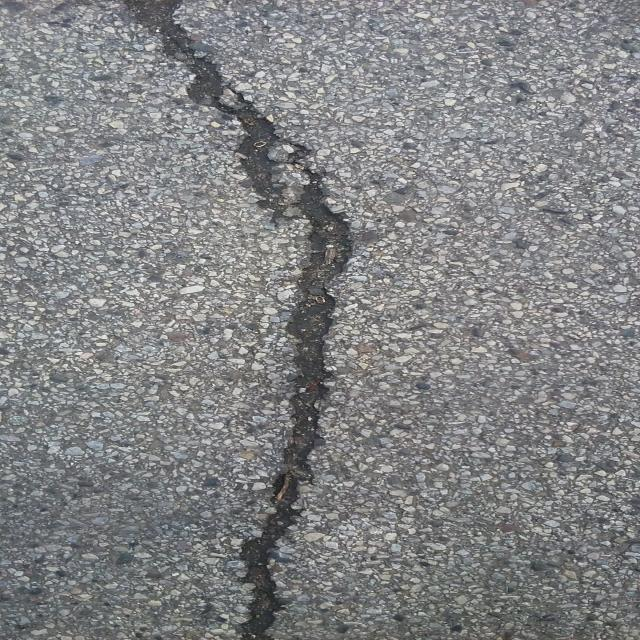Longitudial: (96, 0, 407, 640)
